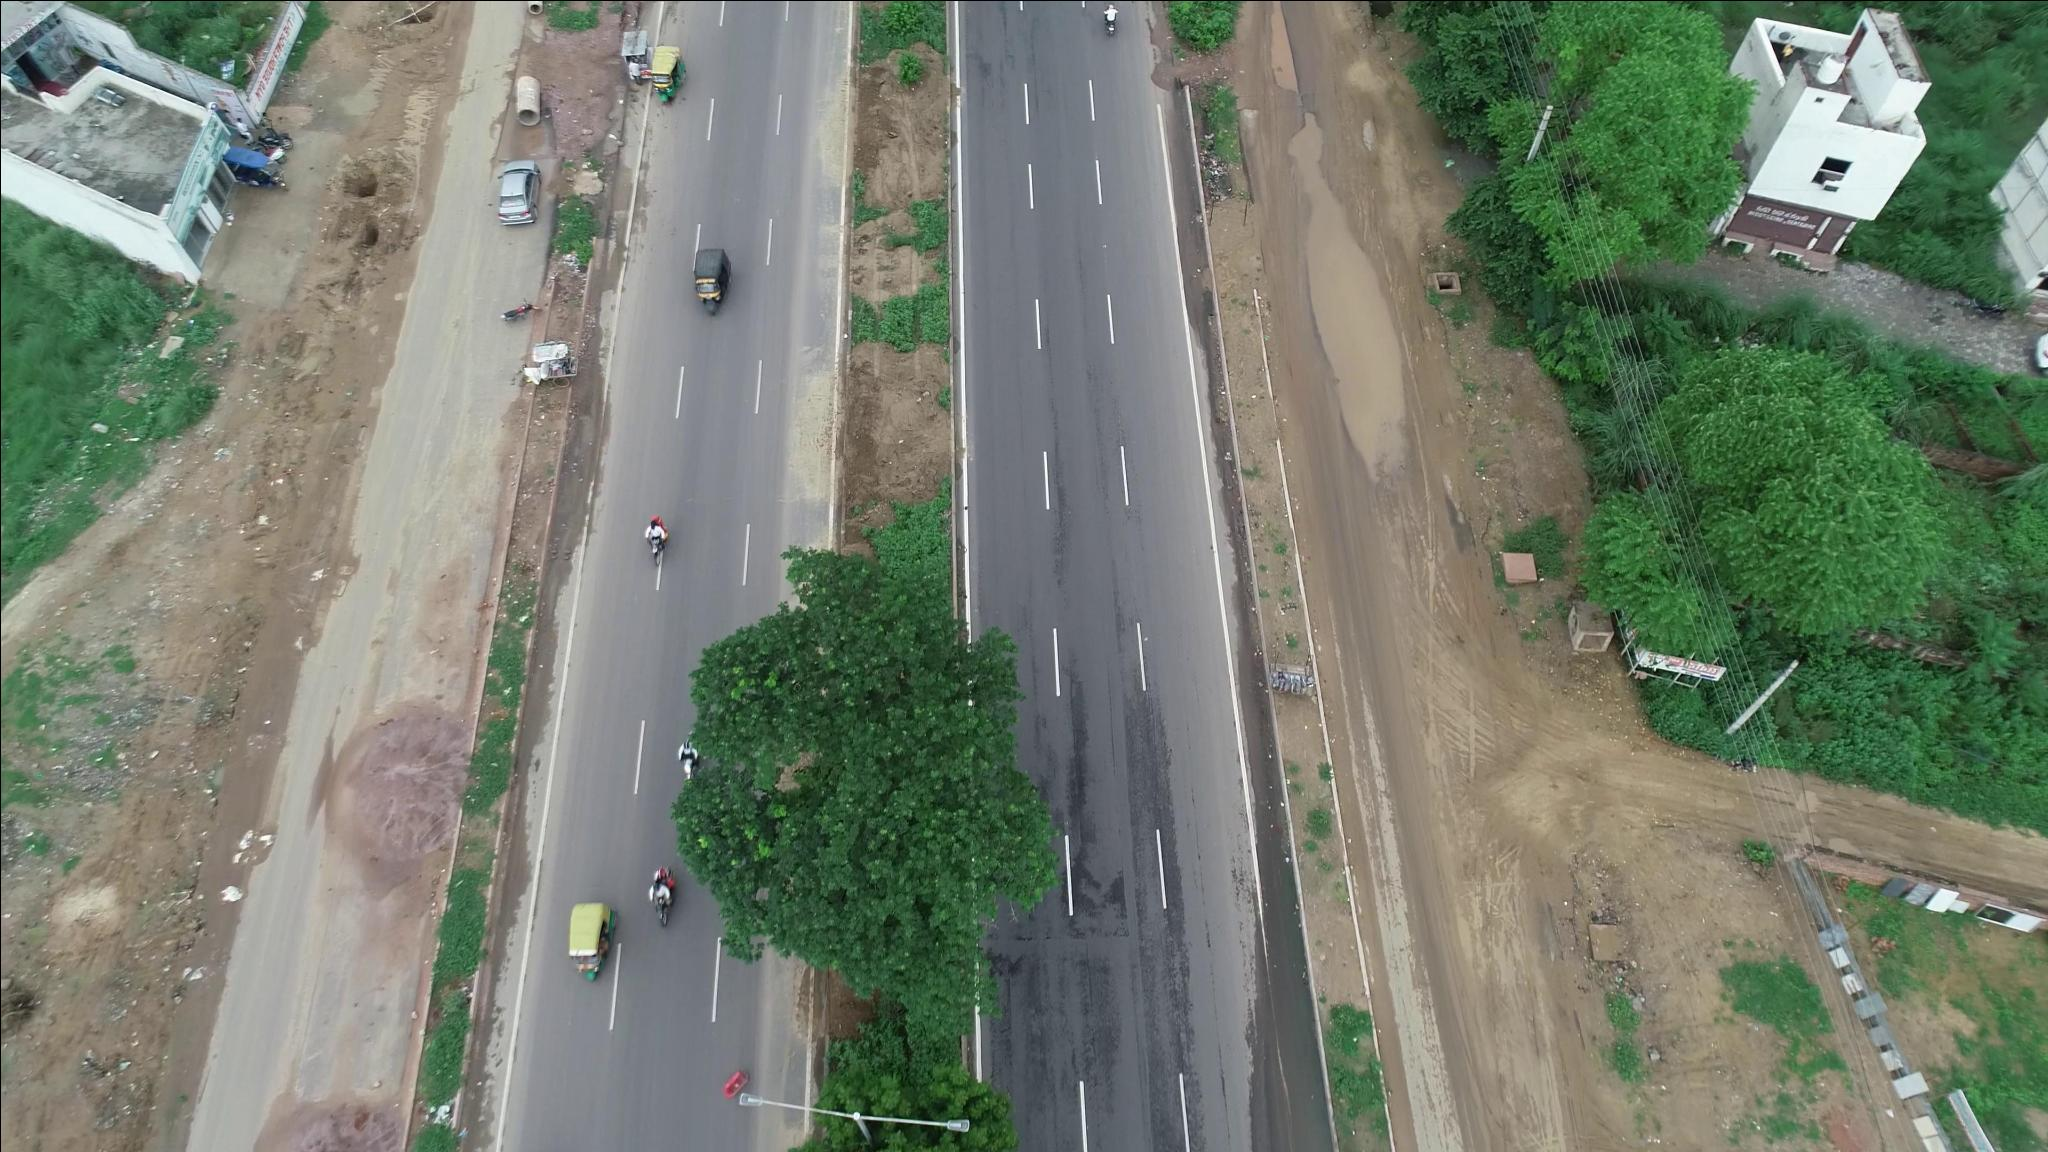Muddy_road: (1421, 793, 1570, 1104), (331, 671, 473, 921)
Ravelling: (1115, 682, 1200, 1115), (1032, 646, 1114, 930)
Waterlogging: (1293, 151, 1423, 478)
